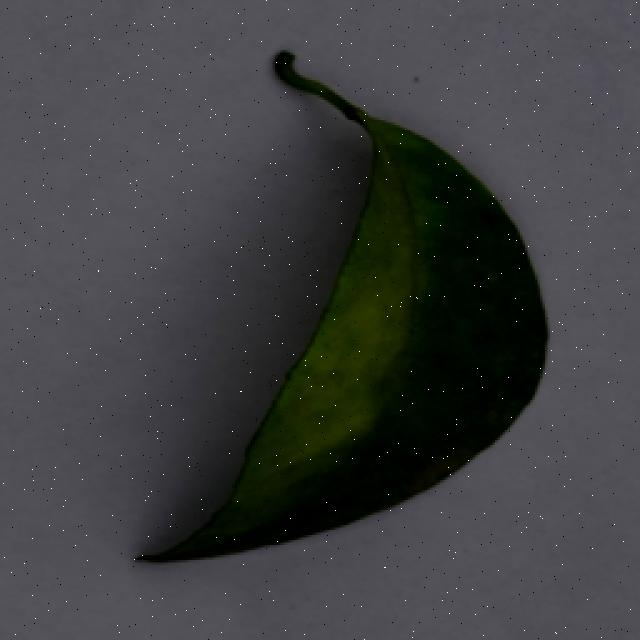greening: (108, 35, 569, 582)
